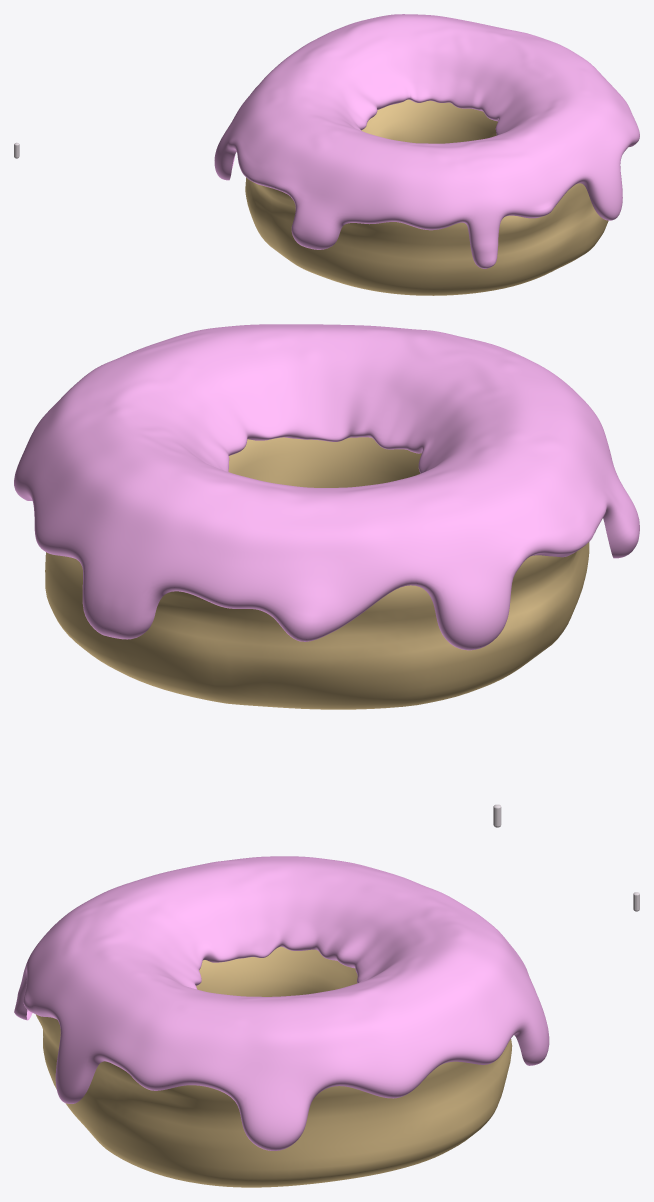
Rendered from testdonut.gltf.
The picture shows the model from 3 angles, top to bottom: view 1: azimuth 30°, elevation 25°; view 2: azimuth 150°, elevation 25°; view 3: azimuth 270°, elevation 25°; orthographic projection. The views are drawn at different scales.
Visible parts, largest first — view 1: Icing, Donut; view 2: Icing, Donut; view 3: Icing, Donut.
Part boxes in pixels (bbox=[...]): Icing: bbox=[214, 14, 639, 268]; Donut: bbox=[245, 99, 608, 295]; Icing: bbox=[14, 324, 639, 650]; Donut: bbox=[45, 437, 589, 709]; Icing: bbox=[14, 856, 549, 1150]; Donut: bbox=[36, 946, 512, 1187].
Bounding box in the file's own units: 0.193 × 0.0608 × 0.1841.
